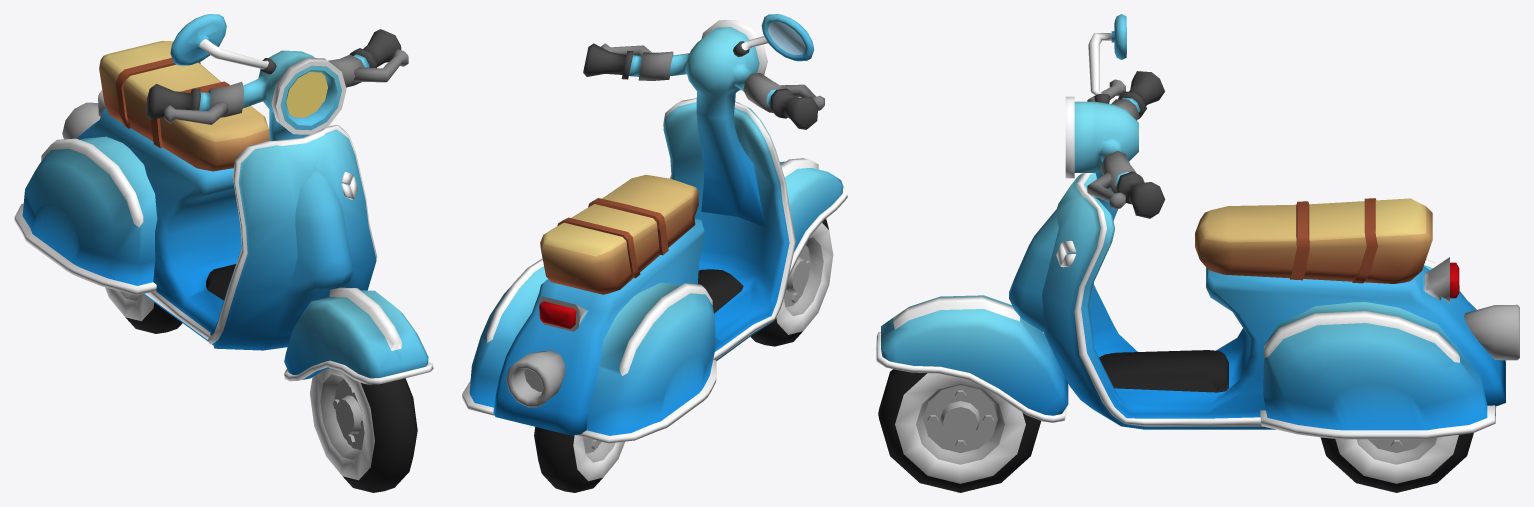
Rendered from 3DEC_02.fbx.
3 renders of one model, left to right at view 1: azimuth 30°, elevation 25°; view 2: azimuth 150°, elevation 25°; view 3: azimuth 270°, elevation 25°, orthographic. The views are drawn at different scales.
Visible parts, largest first — view 1: Cube; view 2: Cube; view 3: Cube.
Part boxes in pixels (x1,y1,x2,y2): Cube: [14, 14, 433, 492]; Cube: [462, 14, 847, 492]; Cube: [876, 14, 1519, 492].
Size of the model in its own units: 125 by 205 by 276.
